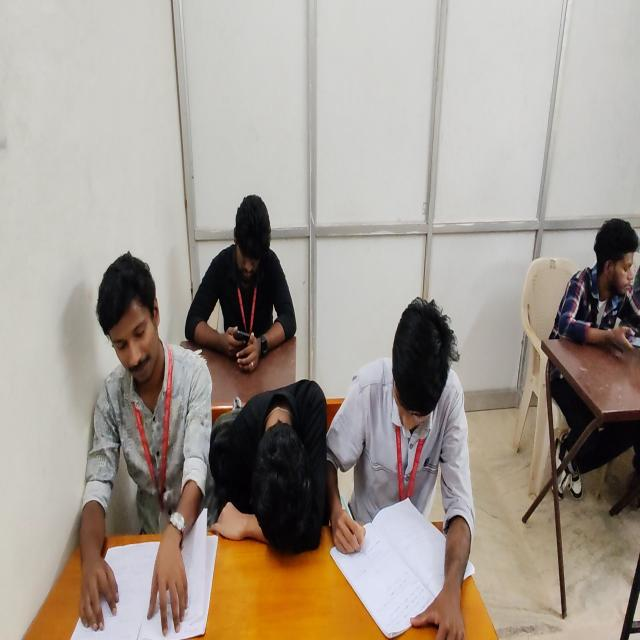reading: (80, 252, 216, 634)
sleeping: (208, 377, 325, 556)
using_mobile: (545, 216, 639, 506), (184, 193, 298, 368)
writing: (333, 298, 469, 640)
